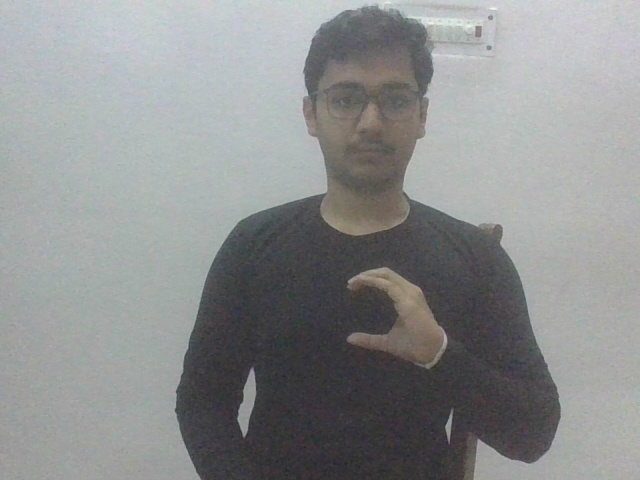C: (343, 262, 449, 376)
